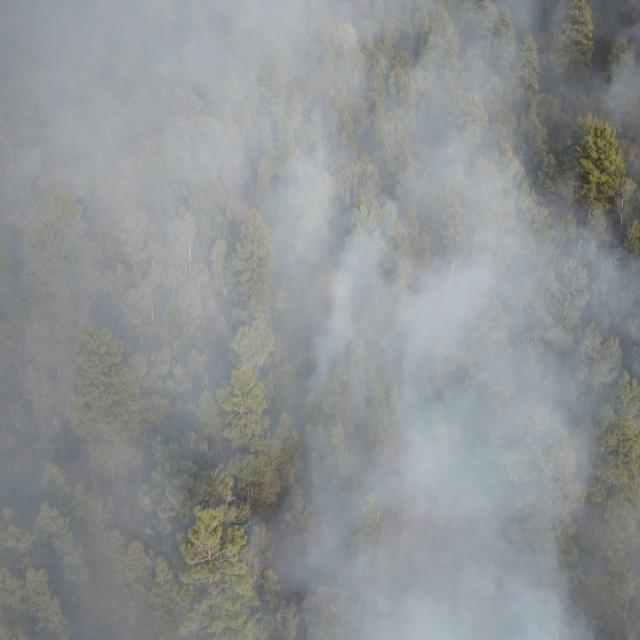smoke: (0, 0, 577, 640), (576, 215, 640, 640), (576, 0, 640, 135), (616, 134, 640, 218)
